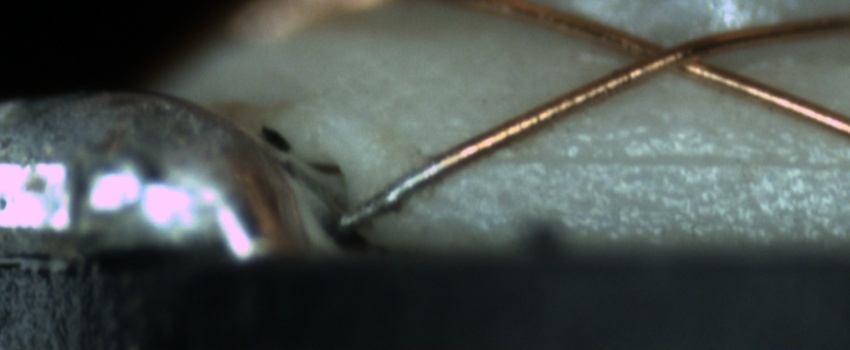CL: (605, 31, 731, 84)
DL: (418, 128, 850, 189)
TS: (341, 159, 442, 227)
